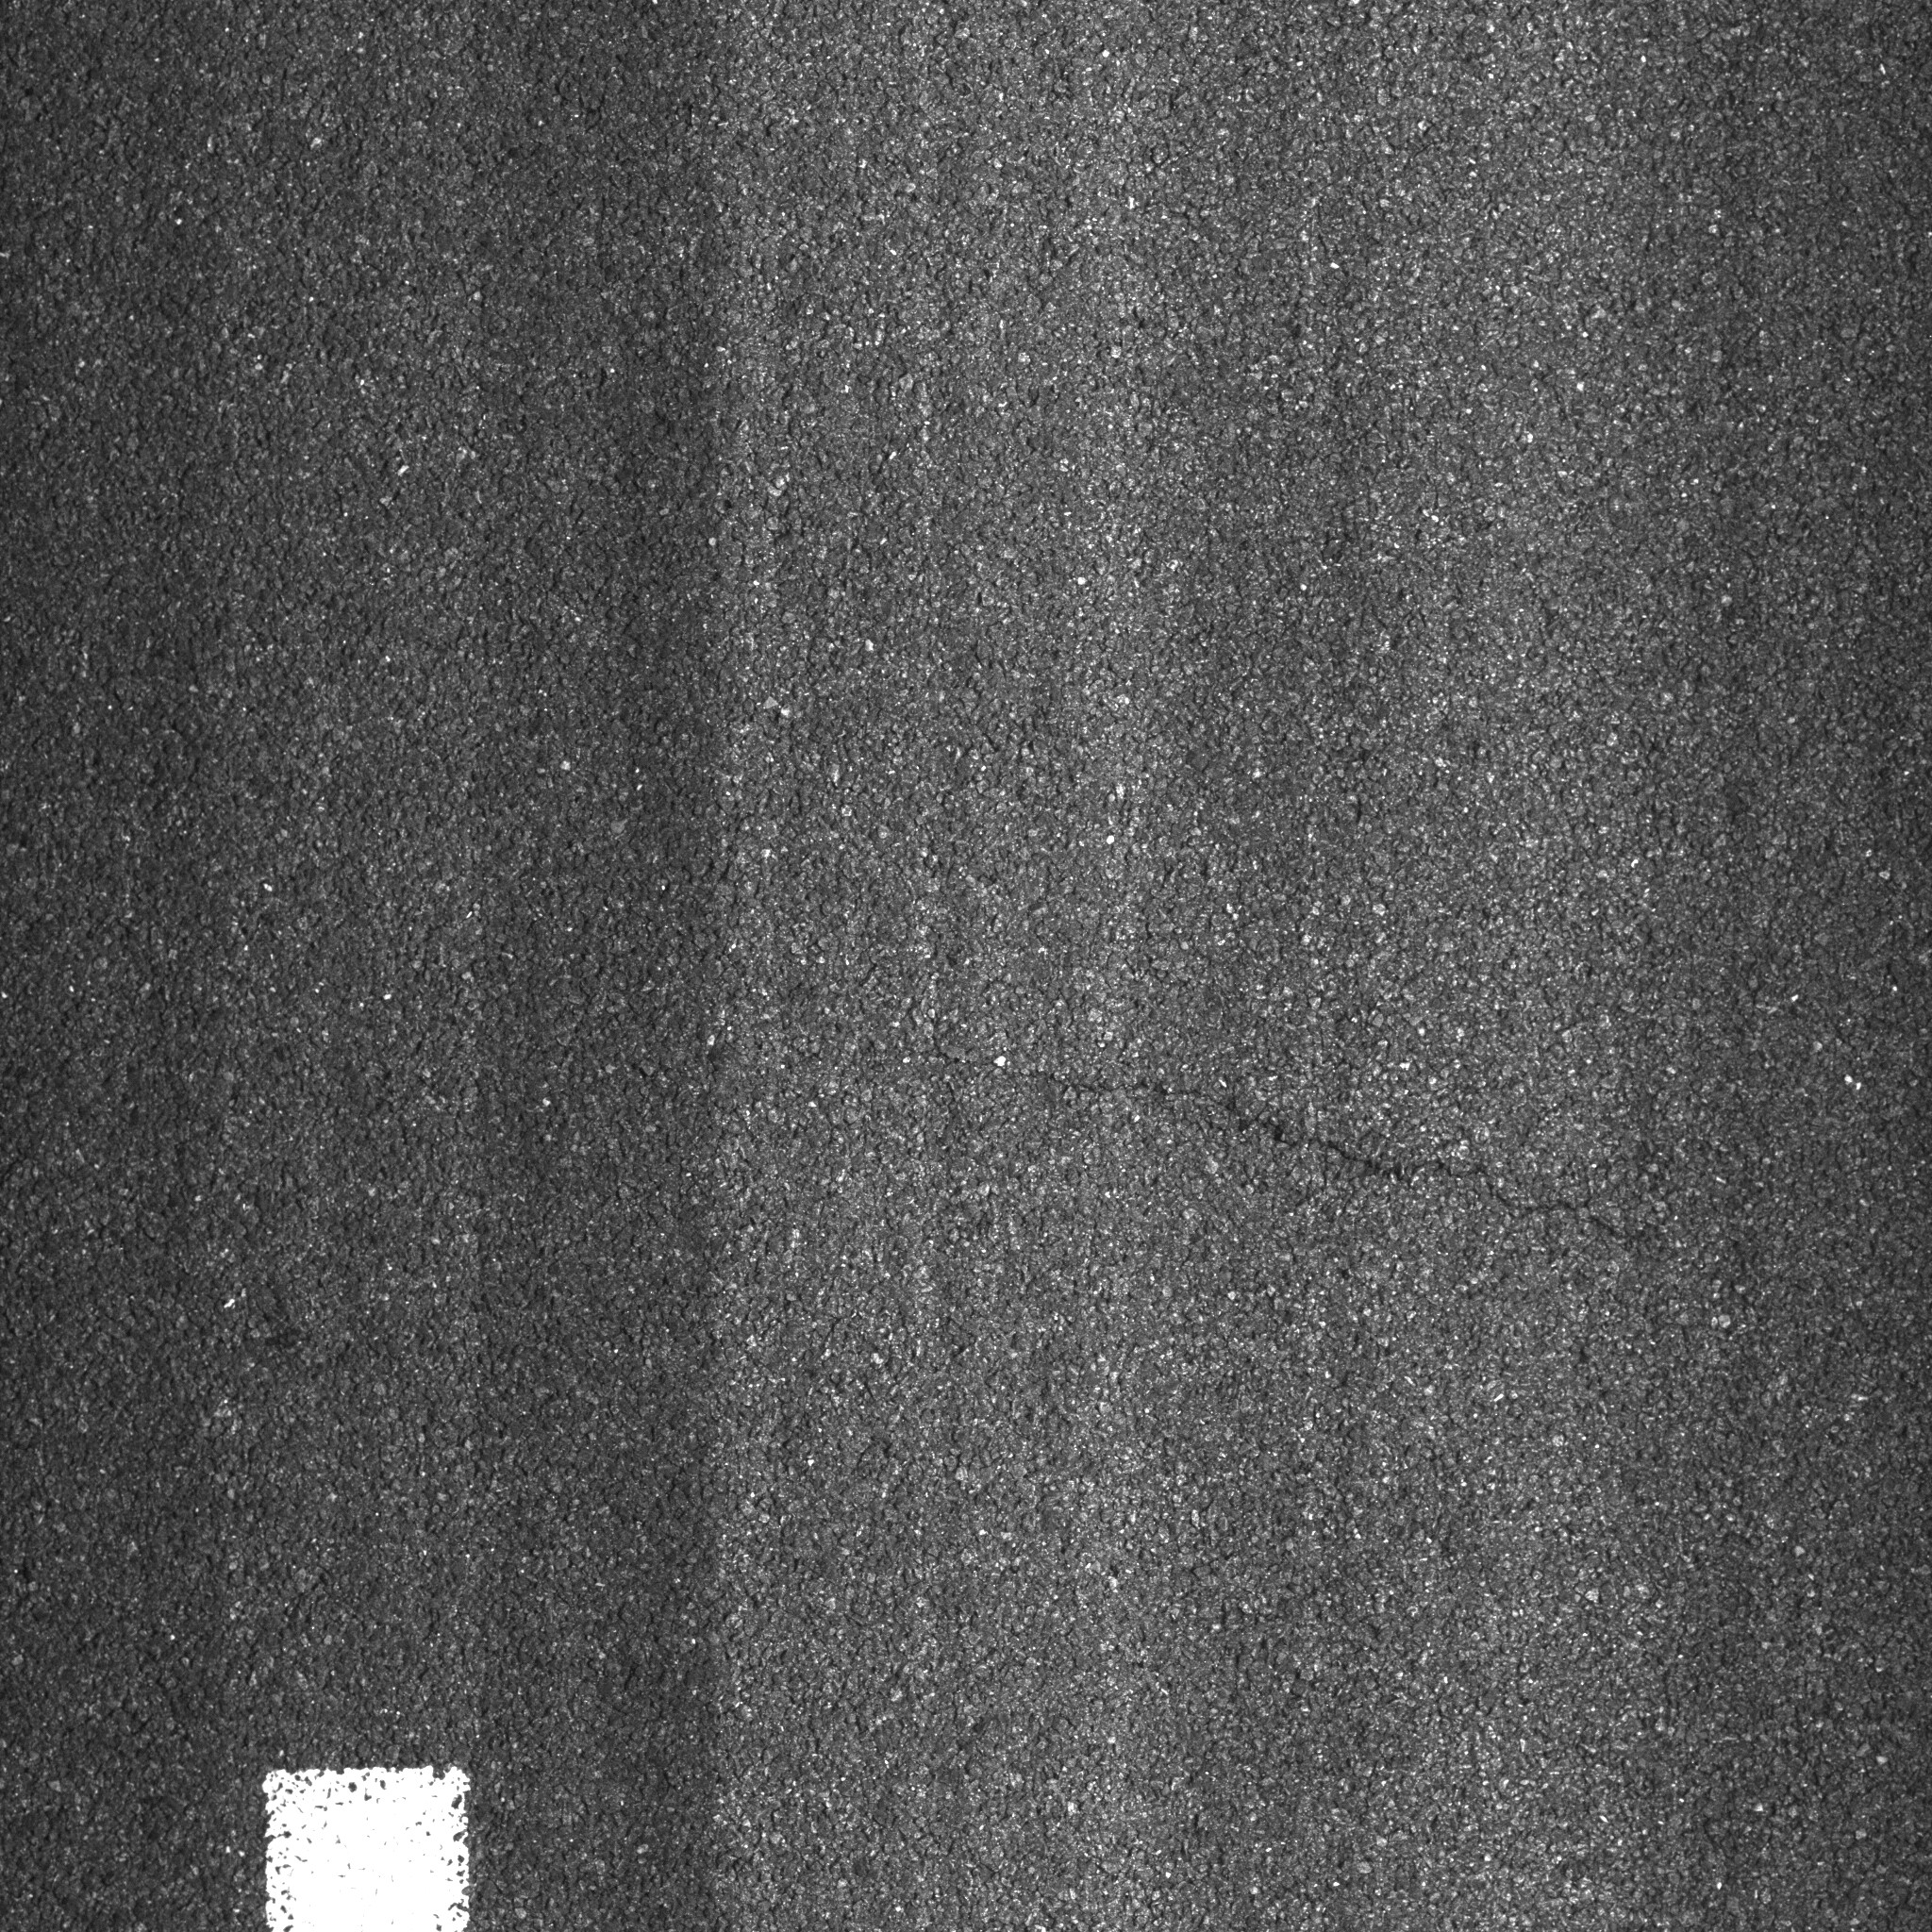transverse: (865, 985, 1702, 1315)
